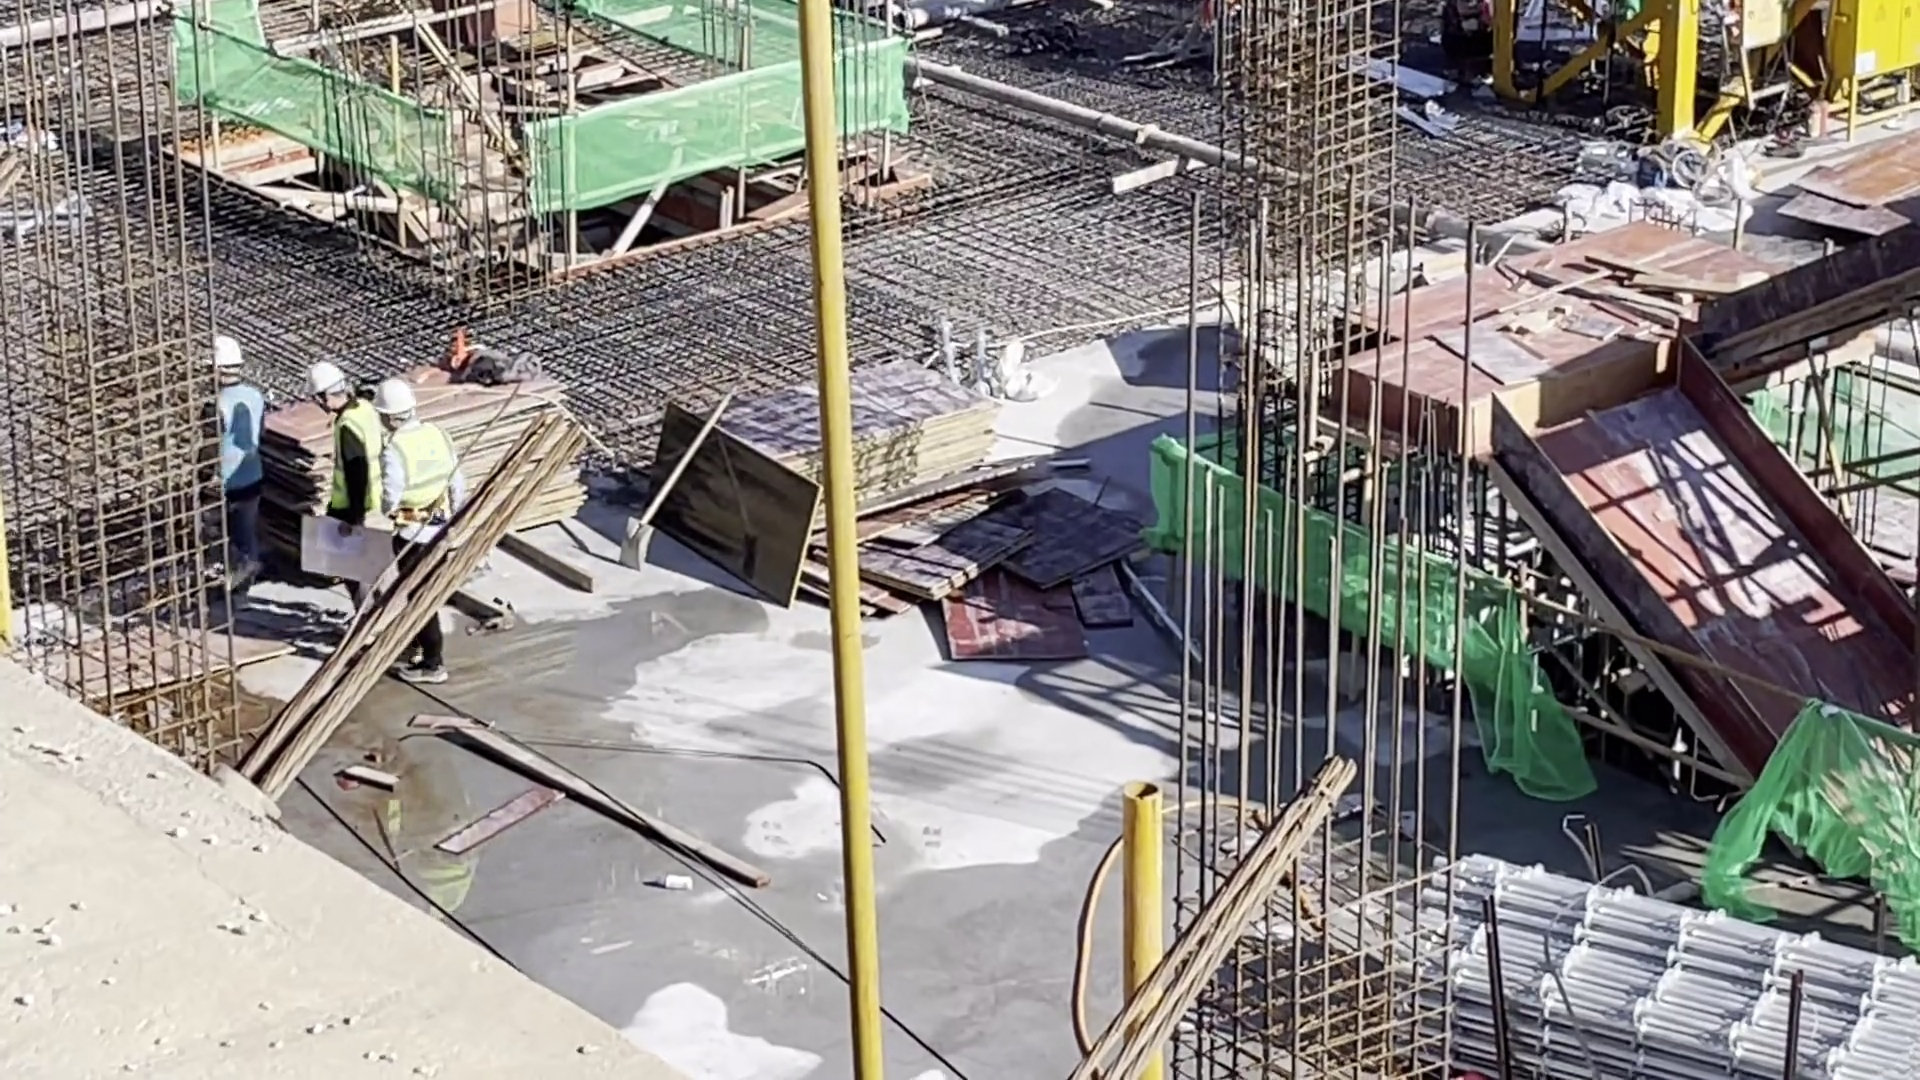board: (711, 353, 992, 537), (1388, 292, 1677, 464), (465, 361, 588, 530)
ebox: (1817, 1, 1919, 137)
helmet: (372, 377, 416, 413), (305, 362, 343, 396), (213, 336, 244, 366)
person: (372, 377, 466, 686), (304, 362, 382, 611), (200, 334, 264, 581)
scaffold: (1463, 854, 1920, 1080)
vest: (331, 400, 382, 516), (388, 422, 452, 509), (216, 384, 265, 489)
